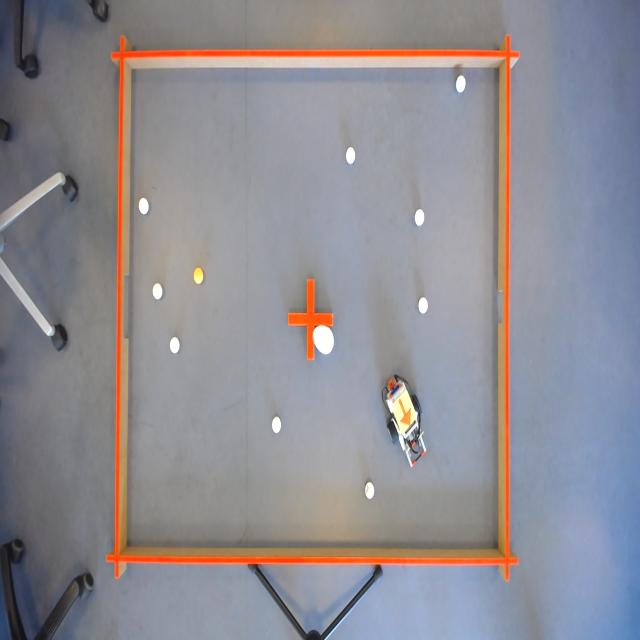cross: (287, 276, 334, 362)
egg: (312, 324, 336, 358)
orange_ball: (192, 262, 204, 286)
robot: (390, 388, 418, 435)
white_ball: (362, 479, 377, 503), (150, 280, 164, 304), (416, 294, 429, 318), (343, 144, 356, 168), (168, 334, 181, 357), (270, 415, 282, 438), (137, 195, 149, 218), (414, 207, 426, 228), (456, 74, 466, 98)
